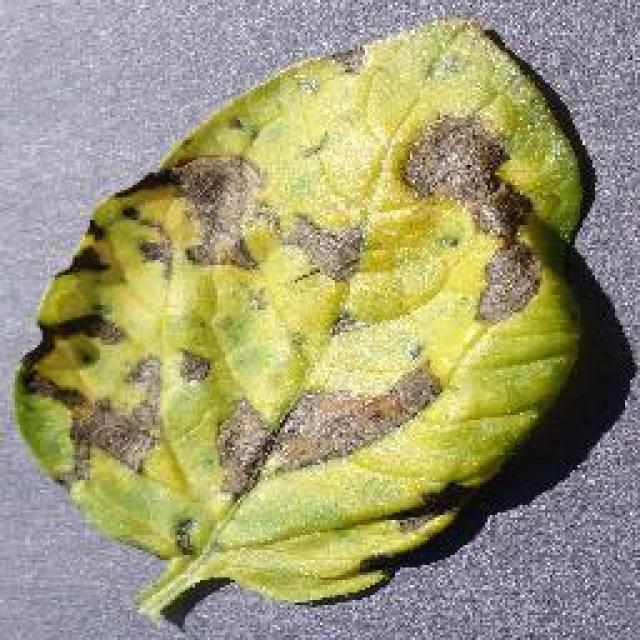Potato: (10, 12, 592, 628)
